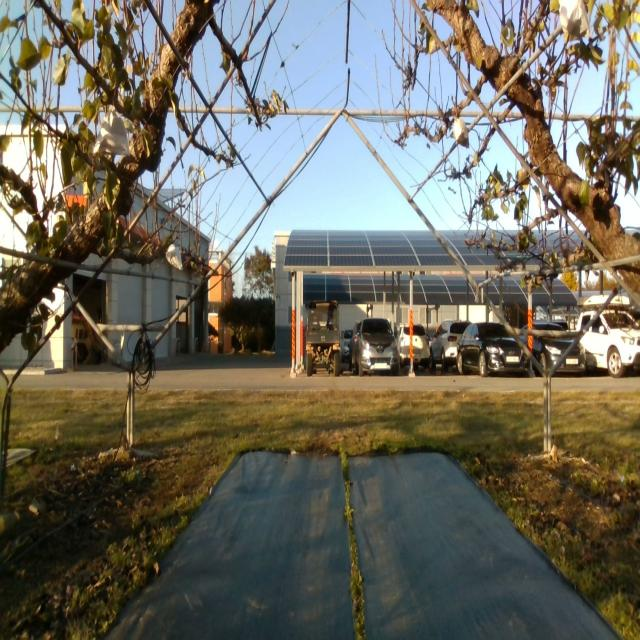pearbags: (94, 105, 130, 156), (558, 0, 592, 39), (453, 118, 469, 149), (165, 243, 183, 270)
